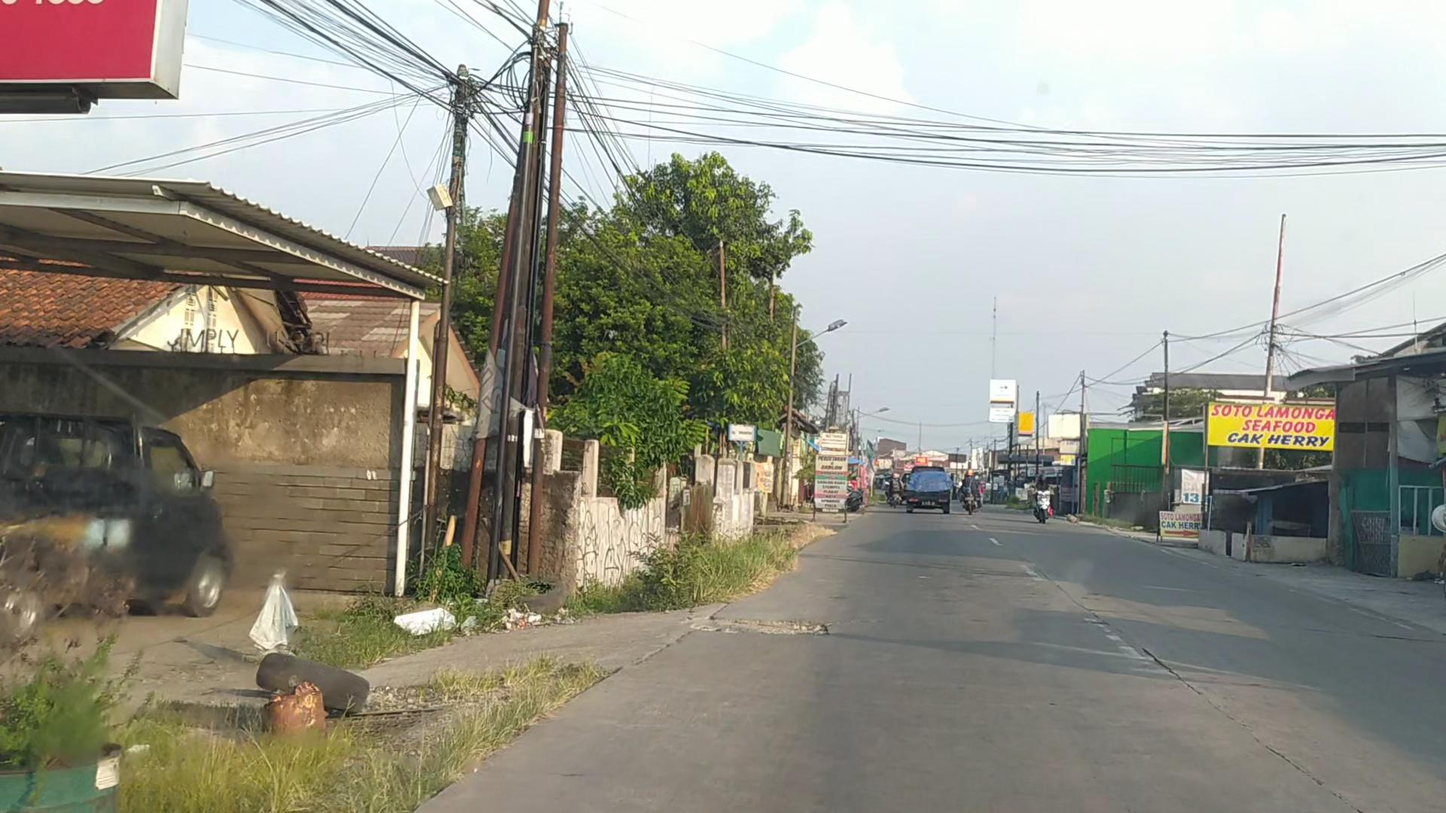pothole: (694, 618, 830, 639)
